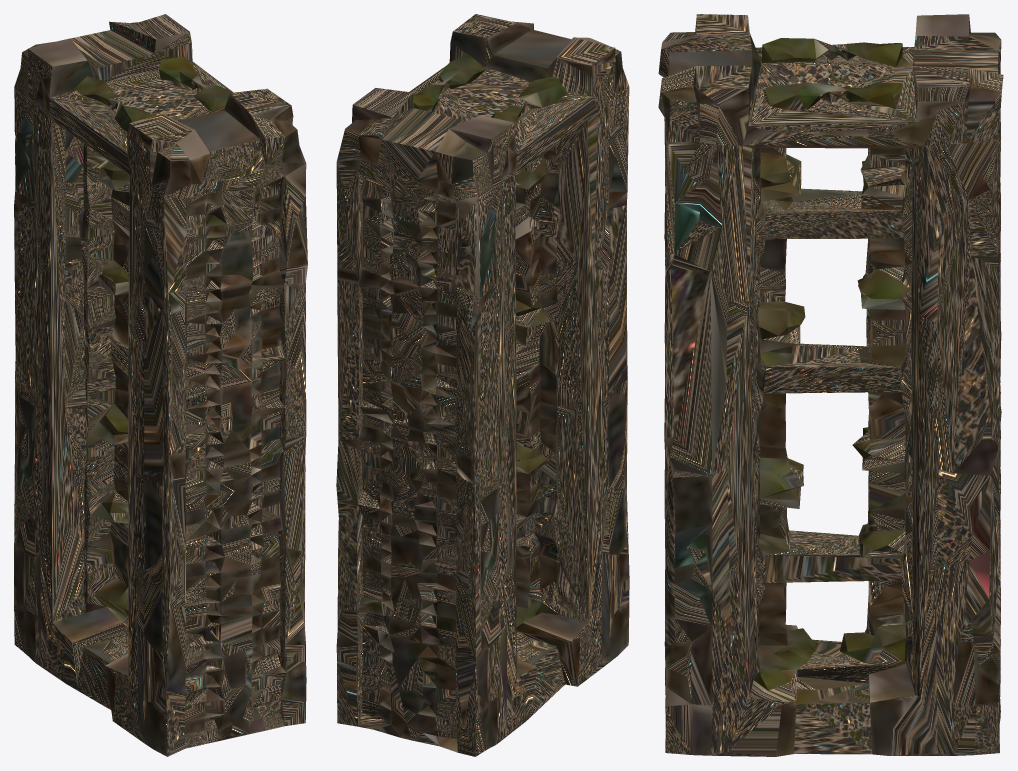
Rendered from m02_far.glb.
3 views of the same model, side by side, from view 1: azimuth 30°, elevation 25°; view 2: azimuth 150°, elevation 25°; view 3: azimuth 270°, elevation 25° (orthographic). The views are drawn at different scales.
Parts seen in each view (by area): view 1: m02_far; view 2: m02_far; view 3: m02_far.
Part boxes in pixels (left/top/right/bottom): m02_far: left=14, top=14, right=307, bottom=756; m02_far: left=336, top=14, right=629, bottom=756; m02_far: left=658, top=14, right=1003, bottom=756.
Bounding box in the file's own units: 39.64 × 160 × 74.57.
1 material, 1 textured.
